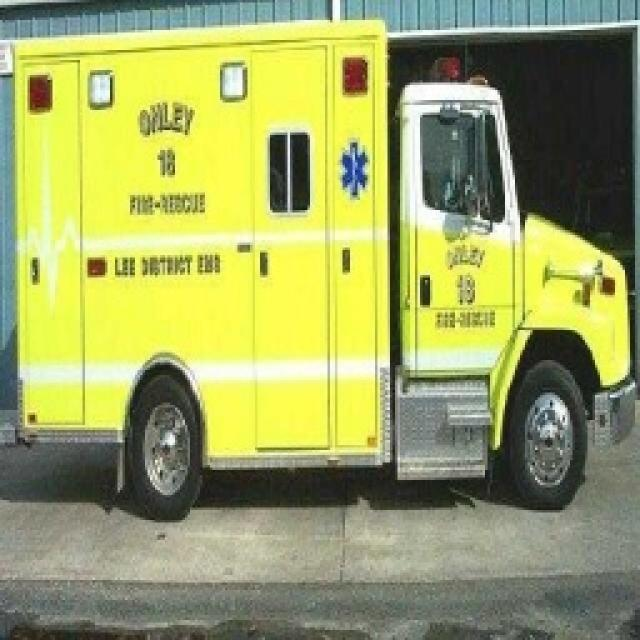emergency-vehicle: (13, 20, 638, 519)
